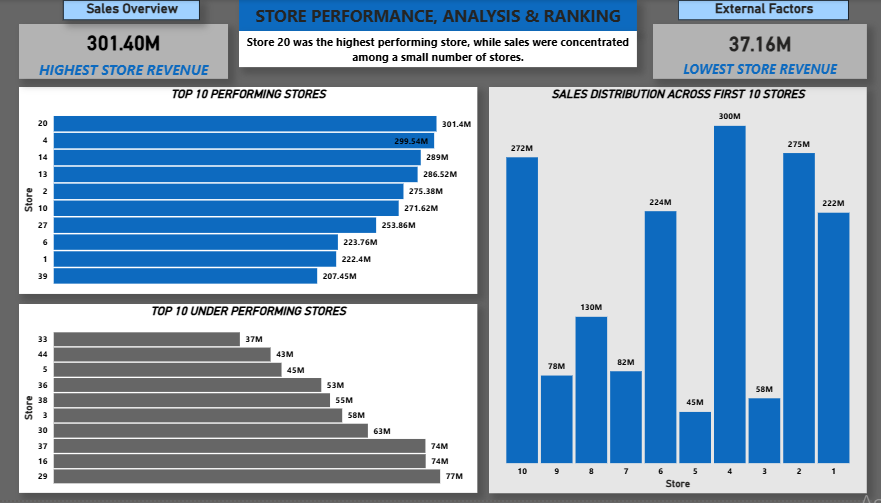

This screenshot's page, from the dashboard's own definition file:
{"tool":"powerbi","page":{"name":"Store Analysis","canvas":[1280,720],"ordinal":1},"visuals":[{"type":"clusteredBarChart","title":"TOP 10 PERFORMING STORES","fields":{"Y":["Walmart.TOTAL SALES"],"Category":["Walmart.Store"]},"box":[34.6,125.3,659.5,298.1],"z":0},{"type":"clusteredBarChart","title":"TOP 10 UNDER PERFORMING STORES","fields":{"Y":["Walmart.TOTAL SALES"],"Category":["Walmart.Store"]},"box":[34.6,437.8,659.5,272.2],"z":1000},{"type":"clusteredColumnChart","title":"SALES DISTRIBUTION ACROSS STORES","fields":{"Category":["Walmart.Store"],"Y":["Walmart.TOTAL SALES"]},"box":[711.4,125.3,544.3,584.6],"z":2000},{"type":"card","fields":{"Values":["Correlation_Table.Best Store sales"]},"box":[34.6,14.4,301,99.4],"z":4000},{"type":"card","fields":{"Values":["Correlation_Table.WORST STORE SALES"]},"box":[947.5,14.4,308.2,99.4],"z":5000},{"type":"textbox","box":[351.4,0,573.1,44.6],"z":6000},{"type":"textbox","box":[351.4,44.6,573.1,51.8],"z":7000}]}

Visuals, with their boxes in screenshot pixels (x1, y1, x2, y2), scaled from the page's 1280x720 canvas onto the 881x503 screenshot:
"TOP 10 PERFORMING STORES" clusteredBarChart: {"left": 24, "top": 88, "right": 478, "bottom": 296}
"TOP 10 UNDER PERFORMING STORES" clusteredBarChart: {"left": 24, "top": 306, "right": 478, "bottom": 496}
"SALES DISTRIBUTION ACROSS STORES" clusteredColumnChart: {"left": 490, "top": 88, "right": 864, "bottom": 496}
card - Correlation_Table.Best Store sales: {"left": 24, "top": 10, "right": 231, "bottom": 80}
card - Correlation_Table.WORST STORE SALES: {"left": 652, "top": 10, "right": 864, "bottom": 80}
textbox: {"left": 242, "top": 0, "right": 636, "bottom": 31}
textbox: {"left": 242, "top": 31, "right": 636, "bottom": 67}
